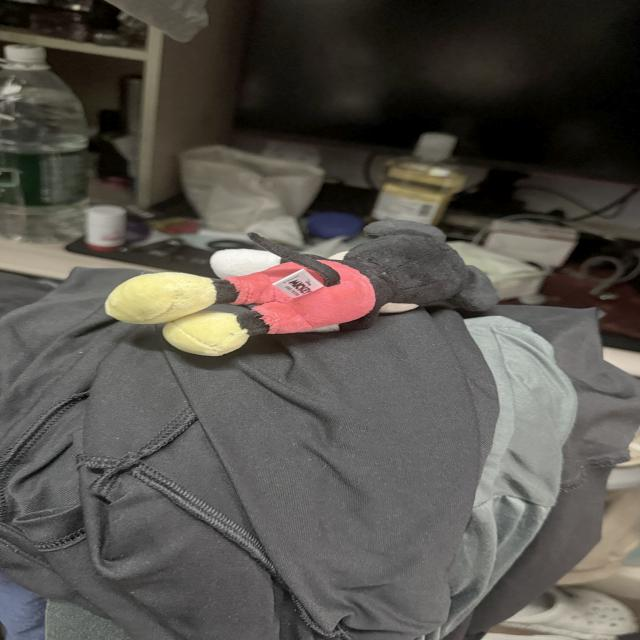mickey: (106, 221, 497, 355)
